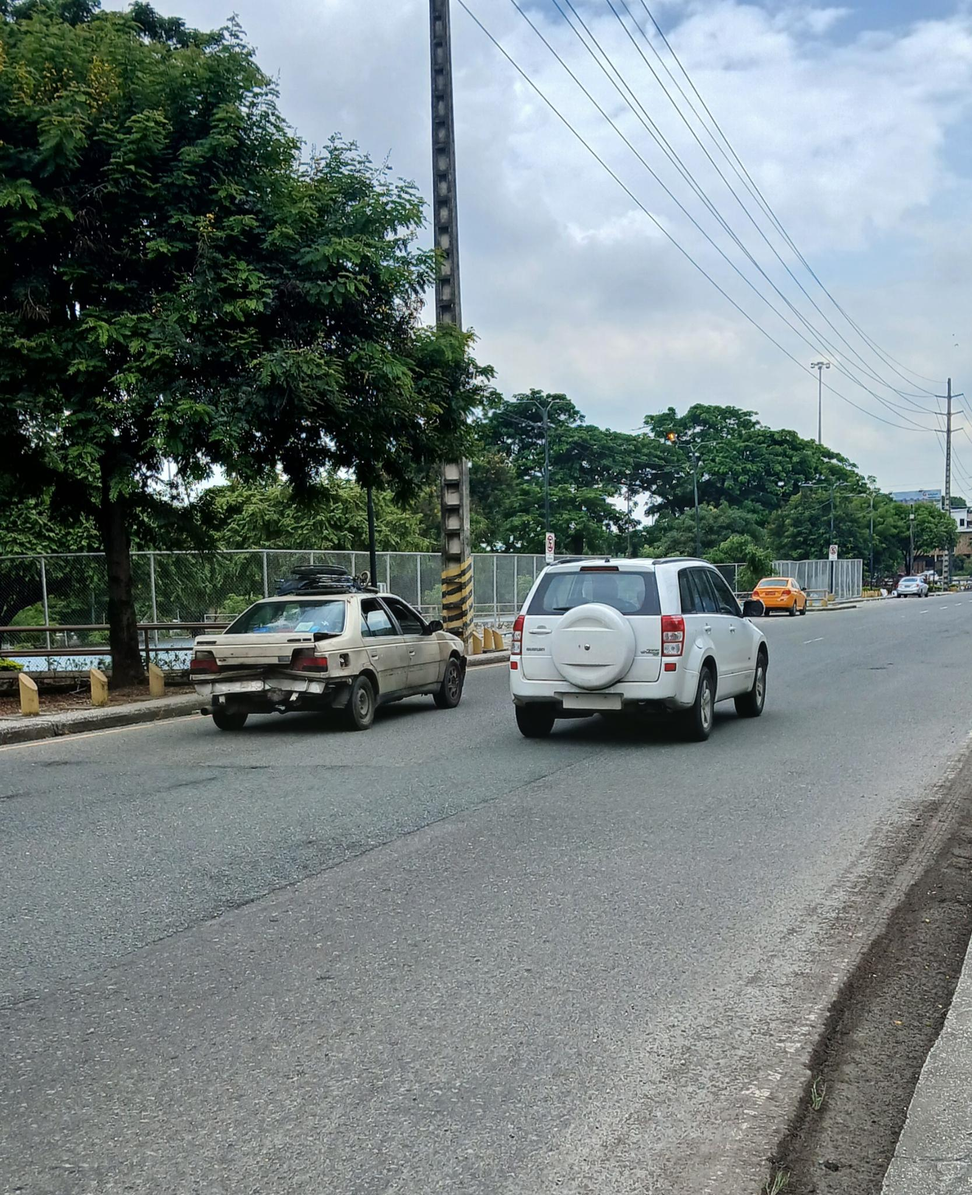license_plate: (558, 691, 622, 711)
